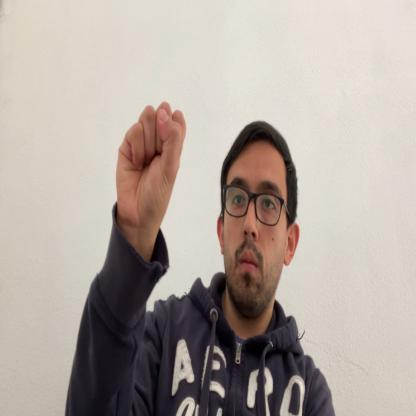S: (115, 103, 186, 239)
